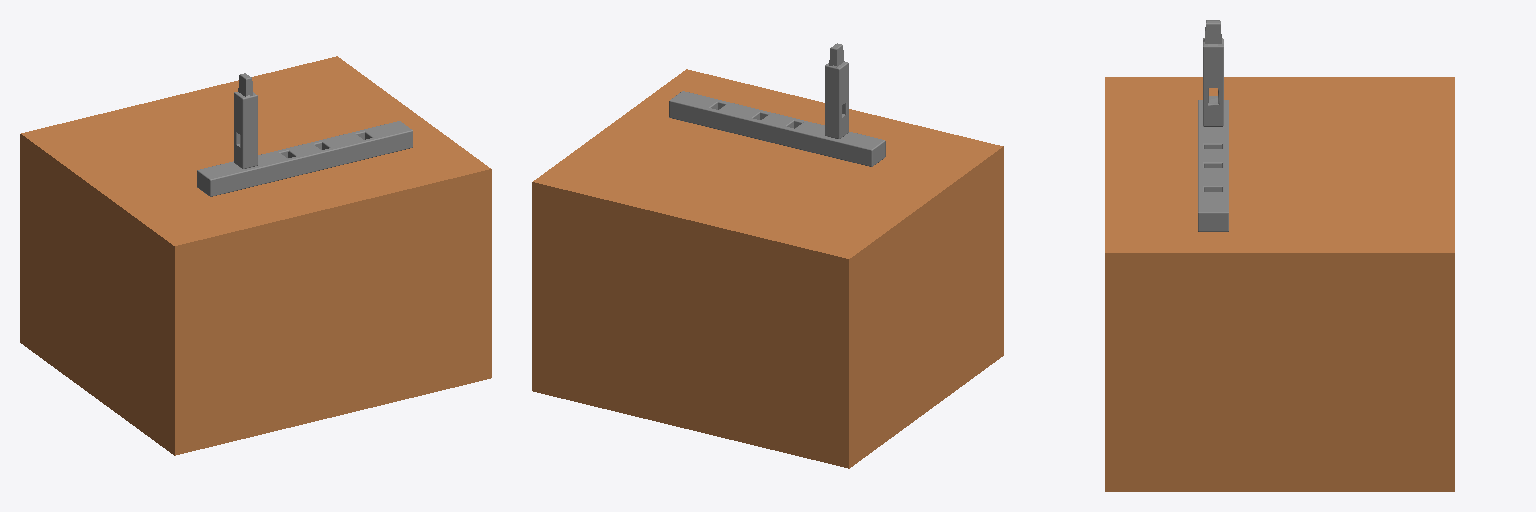
robot.urdf — table_beam_2x_0_scene_0056:
<?xml version="1.0"?>
<robot name="table_beam_2x_0_scene_0056">
  <link name="box">
    <visual>
      <material name="wood"><color rgba="0.82 0.56 0.35 1.0"/></material>
      <origin xyz="0 0 0"/>
      <geometry><box size="0.475 0.4 0.3"/></geometry>
    </visual>
    <collision>
      <origin xyz="0 0 0"/>
      <geometry><box size="0.475 0.4 0.3"/></geometry>
    </collision>
    <inertial>
      <mass value="500"/>
      <friction value="1.0"/>
      <inertia ixx="1000.0" ixy="0.0" ixz="0.0" iyy="1000.0" iyz="0.0" izz="1000.0"/>
    </inertial>
  </link>
  <link name="part_6_canonical">
    <visual>
      <origin xyz="0 0 0" rpy="0 0 0"/>
      <geometry><mesh filename="../../6/6_canonical.obj" scale="1 1 1"/></geometry>
      <material name="placed_0"><color rgba="0.6 0.6 0.6 1.0"/></material>
    </visual>
    <collision>
      <origin xyz="0 0 0" rpy="0 0 0"/>
      <geometry><mesh filename="../../6/6_canonical.obj" scale="1 1 1"/></geometry>
    </collision>
  </link>
  <joint name="part_6_canonical_joint" type="fixed">
    <parent link="box"/>
    <child link="part_6_canonical"/>
    <origin xyz="0.029790 -0.075979 0.162666" rpy="0.000000 0.000000 0.000000"/>
  </joint>
  <link name="part_2_hull_0">
    <visual>
      <origin xyz="0 0 0" rpy="0 0 0"/>
      <geometry><mesh filename="../../2/coacd/decomp_0.obj" scale="1 1 1"/></geometry>
      <material name="placed_1"><color rgba="0.6 0.6 0.6 1.0"/></material>
    </visual>
    <collision>
      <origin xyz="0 0 0" rpy="0 0 0"/>
      <geometry><mesh filename="../../2/coacd/decomp_0.obj" scale="1 1 1"/></geometry>
    </collision>
  </link>
  <joint name="part_2_hull_0_joint" type="fixed">
    <parent link="box"/>
    <child link="part_2_hull_0"/>
    <origin xyz="-0.059137 -0.075979 0.225384" rpy="0.000000 -1.570796 0.000000"/>
  </joint>
  <link name="part_2_hull_1">
    <visual>
      <origin xyz="0 0 0" rpy="0 0 0"/>
      <geometry><mesh filename="../../2/coacd/decomp_1.obj" scale="1 1 1"/></geometry>
      <material name="placed_2"><color rgba="0.6 0.6 0.6 1.0"/></material>
    </visual>
    <collision>
      <origin xyz="0 0 0" rpy="0 0 0"/>
      <geometry><mesh filename="../../2/coacd/decomp_1.obj" scale="1 1 1"/></geometry>
    </collision>
  </link>
  <joint name="part_2_hull_1_joint" type="fixed">
    <parent link="box"/>
    <child link="part_2_hull_1"/>
    <origin xyz="-0.059137 -0.075979 0.225384" rpy="0.000000 -1.570796 0.000000"/>
  </joint>
  <link name="part_2_hull_2">
    <visual>
      <origin xyz="0 0 0" rpy="0 0 0"/>
      <geometry><mesh filename="../../2/coacd/decomp_10.obj" scale="1 1 1"/></geometry>
      <material name="placed_3"><color rgba="0.6 0.6 0.6 1.0"/></material>
    </visual>
    <collision>
      <origin xyz="0 0 0" rpy="0 0 0"/>
      <geometry><mesh filename="../../2/coacd/decomp_10.obj" scale="1 1 1"/></geometry>
    </collision>
  </link>
  <joint name="part_2_hull_2_joint" type="fixed">
    <parent link="box"/>
    <child link="part_2_hull_2"/>
    <origin xyz="-0.059137 -0.075979 0.225384" rpy="0.000000 -1.570796 0.000000"/>
  </joint>
  <link name="part_2_hull_3">
    <visual>
      <origin xyz="0 0 0" rpy="0 0 0"/>
      <geometry><mesh filename="../../2/coacd/decomp_11.obj" scale="1 1 1"/></geometry>
      <material name="placed_4"><color rgba="0.6 0.6 0.6 1.0"/></material>
    </visual>
    <collision>
      <origin xyz="0 0 0" rpy="0 0 0"/>
      <geometry><mesh filename="../../2/coacd/decomp_11.obj" scale="1 1 1"/></geometry>
    </collision>
  </link>
  <joint name="part_2_hull_3_joint" type="fixed">
    <parent link="box"/>
    <child link="part_2_hull_3"/>
    <origin xyz="-0.059137 -0.075979 0.225384" rpy="0.000000 -1.570796 0.000000"/>
  </joint>
  <link name="part_2_hull_4">
    <visual>
      <origin xyz="0 0 0" rpy="0 0 0"/>
      <geometry><mesh filename="../../2/coacd/decomp_12.obj" scale="1 1 1"/></geometry>
      <material name="placed_5"><color rgba="0.6 0.6 0.6 1.0"/></material>
    </visual>
    <collision>
      <origin xyz="0 0 0" rpy="0 0 0"/>
      <geometry><mesh filename="../../2/coacd/decomp_12.obj" scale="1 1 1"/></geometry>
    </collision>
  </link>
  <joint name="part_2_hull_4_joint" type="fixed">
    <parent link="box"/>
    <child link="part_2_hull_4"/>
    <origin xyz="-0.059137 -0.075979 0.225384" rpy="0.000000 -1.570796 0.000000"/>
  </joint>
  <link name="part_2_hull_5">
    <visual>
      <origin xyz="0 0 0" rpy="0 0 0"/>
      <geometry><mesh filename="../../2/coacd/decomp_13.obj" scale="1 1 1"/></geometry>
      <material name="placed_6"><color rgba="0.6 0.6 0.6 1.0"/></material>
    </visual>
    <collision>
      <origin xyz="0 0 0" rpy="0 0 0"/>
      <geometry><mesh filename="../../2/coacd/decomp_13.obj" scale="1 1 1"/></geometry>
    </collision>
  </link>
  <joint name="part_2_hull_5_joint" type="fixed">
    <parent link="box"/>
    <child link="part_2_hull_5"/>
    <origin xyz="-0.059137 -0.075979 0.225384" rpy="0.000000 -1.570796 0.000000"/>
  </joint>
  <link name="part_2_hull_6">
    <visual>
      <origin xyz="0 0 0" rpy="0 0 0"/>
      <geometry><mesh filename="../../2/coacd/decomp_14.obj" scale="1 1 1"/></geometry>
      <material name="placed_7"><color rgba="0.6 0.6 0.6 1.0"/></material>
    </visual>
    <collision>
      <origin xyz="0 0 0" rpy="0 0 0"/>
      <geometry><mesh filename="../../2/coacd/decomp_14.obj" scale="1 1 1"/></geometry>
    </collision>
  </link>
  <joint name="part_2_hull_6_joint" type="fixed">
    <parent link="box"/>
    <child link="part_2_hull_6"/>
    <origin xyz="-0.059137 -0.075979 0.225384" rpy="0.000000 -1.570796 0.000000"/>
  </joint>
  <link name="part_2_hull_7">
    <visual>
      <origin xyz="0 0 0" rpy="0 0 0"/>
      <geometry><mesh filename="../../2/coacd/decomp_15.obj" scale="1 1 1"/></geometry>
      <material name="placed_8"><color rgba="0.6 0.6 0.6 1.0"/></material>
    </visual>
    <collision>
      <origin xyz="0 0 0" rpy="0 0 0"/>
      <geometry><mesh filename="../../2/coacd/decomp_15.obj" scale="1 1 1"/></geometry>
    </collision>
  </link>
  <joint name="part_2_hull_7_joint" type="fixed">
    <parent link="box"/>
    <child link="part_2_hull_7"/>
    <origin xyz="-0.059137 -0.075979 0.225384" rpy="0.000000 -1.570796 0.000000"/>
  </joint>
  <link name="part_2_hull_8">
    <visual>
      <origin xyz="0 0 0" rpy="0 0 0"/>
      <geometry><mesh filename="../../2/coacd/decomp_2.obj" scale="1 1 1"/></geometry>
      <material name="placed_9"><color rgba="0.6 0.6 0.6 1.0"/></material>
    </visual>
    <collision>
      <origin xyz="0 0 0" rpy="0 0 0"/>
      <geometry><mesh filename="../../2/coacd/decomp_2.obj" scale="1 1 1"/></geometry>
    </collision>
  </link>
  <joint name="part_2_hull_8_joint" type="fixed">
    <parent link="box"/>
    <child link="part_2_hull_8"/>
    <origin xyz="-0.059137 -0.075979 0.225384" rpy="0.000000 -1.570796 0.000000"/>
  </joint>
  <link name="part_2_hull_9">
    <visual>
      <origin xyz="0 0 0" rpy="0 0 0"/>
      <geometry><mesh filename="../../2/coacd/decomp_3.obj" scale="1 1 1"/></geometry>
      <material name="placed_10"><color rgba="0.6 0.6 0.6 1.0"/></material>
    </visual>
    <collision>
      <origin xyz="0 0 0" rpy="0 0 0"/>
      <geometry><mesh filename="../../2/coacd/decomp_3.obj" scale="1 1 1"/></geometry>
    </collision>
  </link>
  <joint name="part_2_hull_9_joint" type="fixed">
    <parent link="box"/>
    <child link="part_2_hull_9"/>
    <origin xyz="-0.059137 -0.075979 0.225384" rpy="0.000000 -1.570796 0.000000"/>
  </joint>
  <link name="part_2_hull_10">
    <visual>
      <origin xyz="0 0 0" rpy="0 0 0"/>
      <geometry><mesh filename="../../2/coacd/decomp_4.obj" scale="1 1 1"/></geometry>
      <material name="placed_11"><color rgba="0.6 0.6 0.6 1.0"/></material>
    </visual>
    <collision>
      <origin xyz="0 0 0" rpy="0 0 0"/>
      <geometry><mesh filename="../../2/coacd/decomp_4.obj" scale="1 1 1"/></geometry>
    </collision>
  </link>
  <joint name="part_2_hull_10_joint" type="fixed">
    <parent link="box"/>
    <child link="part_2_hull_10"/>
    <origin xyz="-0.059137 -0.075979 0.225384" rpy="0.000000 -1.570796 0.000000"/>
  </joint>
  <link name="part_2_hull_11">
    <visual>
      <origin xyz="0 0 0" rpy="0 0 0"/>
      <geometry><mesh filename="../../2/coacd/decomp_5.obj" scale="1 1 1"/></geometry>
      <material name="placed_12"><color rgba="0.6 0.6 0.6 1.0"/></material>
    </visual>
    <collision>
      <origin xyz="0 0 0" rpy="0 0 0"/>
      <geometry><mesh filename="../../2/coacd/decomp_5.obj" scale="1 1 1"/></geometry>
    </collision>
  </link>
  <joint name="part_2_hull_11_joint" type="fixed">
    <parent link="box"/>
    <child link="part_2_hull_11"/>
    <origin xyz="-0.059137 -0.075979 0.225384" rpy="0.000000 -1.570796 0.000000"/>
  </joint>
  <link name="part_2_hull_12">
    <visual>
      <origin xyz="0 0 0" rpy="0 0 0"/>
      <geometry><mesh filename="../../2/coacd/decomp_6.obj" scale="1 1 1"/></geometry>
      <material name="placed_13"><color rgba="0.6 0.6 0.6 1.0"/></material>
    </visual>
    <collision>
      <origin xyz="0 0 0" rpy="0 0 0"/>
      <geometry><mesh filename="../../2/coacd/decomp_6.obj" scale="1 1 1"/></geometry>
    </collision>
  </link>
  <joint name="part_2_hull_12_joint" type="fixed">
    <parent link="box"/>
    <child link="part_2_hull_12"/>
    <origin xyz="-0.059137 -0.075979 0.225384" rpy="0.000000 -1.570796 0.000000"/>
  </joint>
  <link name="part_2_hull_13">
    <visual>
      <origin xyz="0 0 0" rpy="0 0 0"/>
      <geometry><mesh filename="../../2/coacd/decomp_7.obj" scale="1 1 1"/></geometry>
      <material name="placed_14"><color rgba="0.6 0.6 0.6 1.0"/></material>
    </visual>
    <collision>
      <origin xyz="0 0 0" rpy="0 0 0"/>
      <geometry><mesh filename="../../2/coacd/decomp_7.obj" scale="1 1 1"/></geometry>
    </collision>
  </link>
  <joint name="part_2_hull_13_joint" type="fixed">
    <parent link="box"/>
    <child link="part_2_hull_13"/>
    <origin xyz="-0.059137 -0.075979 0.225384" rpy="0.000000 -1.570796 0.000000"/>
  </joint>
  <link name="part_2_hull_14">
    <visual>
      <origin xyz="0 0 0" rpy="0 0 0"/>
      <geometry><mesh filename="../../2/coacd/decomp_8.obj" scale="1 1 1"/></geometry>
      <material name="placed_15"><color rgba="0.6 0.6 0.6 1.0"/></material>
    </visual>
    <collision>
      <origin xyz="0 0 0" rpy="0 0 0"/>
      <geometry><mesh filename="../../2/coacd/decomp_8.obj" scale="1 1 1"/></geometry>
    </collision>
  </link>
  <joint name="part_2_hull_14_joint" type="fixed">
    <parent link="box"/>
    <child link="part_2_hull_14"/>
    <origin xyz="-0.059137 -0.075979 0.225384" rpy="0.000000 -1.570796 0.000000"/>
  </joint>
  <link name="part_2_hull_15">
    <visual>
      <origin xyz="0 0 0" rpy="0 0 0"/>
      <geometry><mesh filename="../../2/coacd/decomp_9.obj" scale="1 1 1"/></geometry>
      <material name="placed_16"><color rgba="0.6 0.6 0.6 1.0"/></material>
    </visual>
    <collision>
      <origin xyz="0 0 0" rpy="0 0 0"/>
      <geometry><mesh filename="../../2/coacd/decomp_9.obj" scale="1 1 1"/></geometry>
    </collision>
  </link>
  <joint name="part_2_hull_15_joint" type="fixed">
    <parent link="box"/>
    <child link="part_2_hull_15"/>
    <origin xyz="-0.059137 -0.075979 0.225384" rpy="0.000000 -1.570796 0.000000"/>
  </joint>
</robot>

--- What the picture shows (computed from the rendered views, not written in the file) ---
The picture shows the robot from 3 angles, left to right: view 1: azimuth 30°, elevation 25°; view 2: azimuth 150°, elevation 25°; view 3: azimuth 270°, elevation 25°; orthographic projection.
Model table_beam_2x_0_scene_0056 with 18 links and 17 joints (17 fixed), rooted at box, posed every joint at zero.
Links seen in each view (by area): view 1: box, part_6_canonical, part_2_hull_1; view 2: box, part_6_canonical, part_2_hull_1; view 3: box, part_6_canonical.
Link boxes in pixels (x1=…): box: x1=20, y1=56, x2=491, y2=455; part_6_canonical: x1=197, y1=121, x2=412, y2=196; part_2_hull_1: x1=234, y1=92, x2=246, y2=136; box: x1=532, y1=69, x2=1003, y2=468; part_6_canonical: x1=669, y1=91, x2=885, y2=166; part_2_hull_1: x1=836, y1=62, x2=848, y2=106; box: x1=1105, y1=77, x2=1454, y2=491; part_6_canonical: x1=1198, y1=100, x2=1228, y2=231.
Size in the robot's own frame: 0.475 by 0.4 by 0.4524 metres.
Meshes: 17 distinct files referenced, 17 mesh visuals loaded (17 OBJ).
